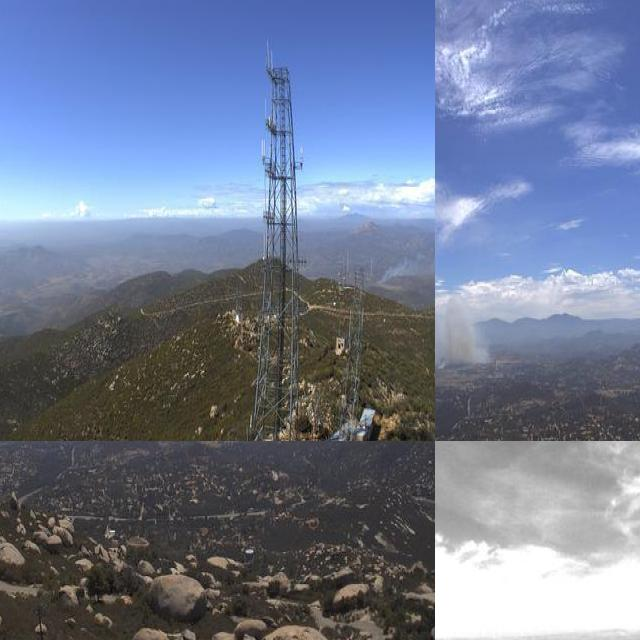smoke: (435, 270, 492, 380), (370, 225, 435, 281)
